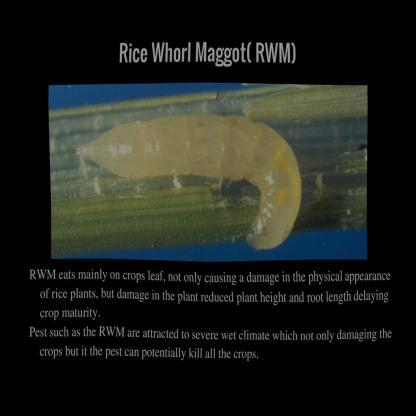whorl-maggot: (69, 108, 312, 252)
